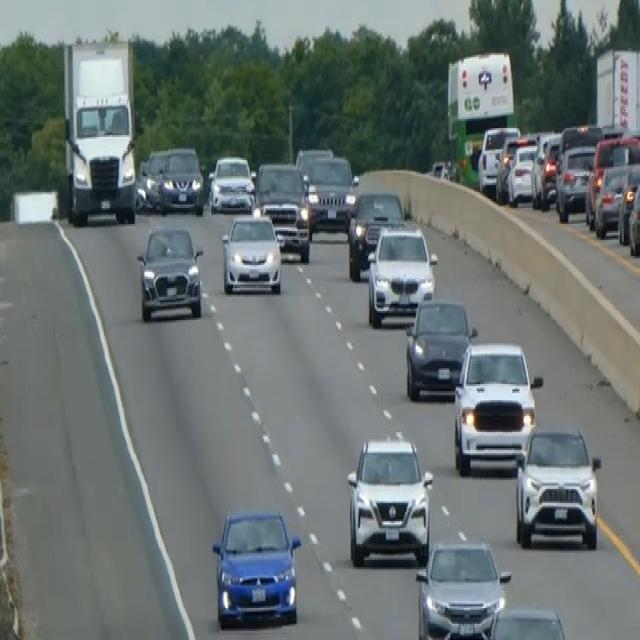car: (452, 338, 542, 474), (346, 432, 433, 567), (513, 423, 602, 549), (211, 505, 302, 627), (414, 537, 511, 638), (404, 293, 476, 400), (366, 222, 437, 327), (136, 222, 204, 322), (253, 160, 311, 261), (346, 188, 405, 281), (584, 132, 639, 230), (220, 212, 282, 295), (303, 151, 358, 231), (479, 603, 573, 638), (554, 142, 596, 220), (158, 144, 204, 215), (477, 122, 519, 196), (593, 160, 630, 236), (208, 153, 254, 213), (530, 133, 561, 208), (506, 139, 539, 206), (617, 162, 639, 244), (142, 148, 167, 210), (294, 144, 333, 183), (627, 172, 639, 256), (134, 156, 149, 210)
lorry: (61, 37, 138, 226)
